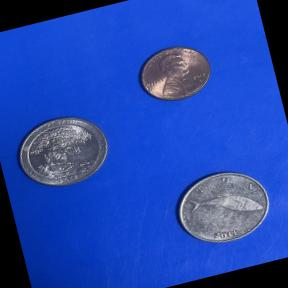Croatia-2Kune-B: (160, 154, 284, 259)
US-1cent-B: (128, 33, 222, 114)
US-25cent-B: (7, 104, 120, 199)
